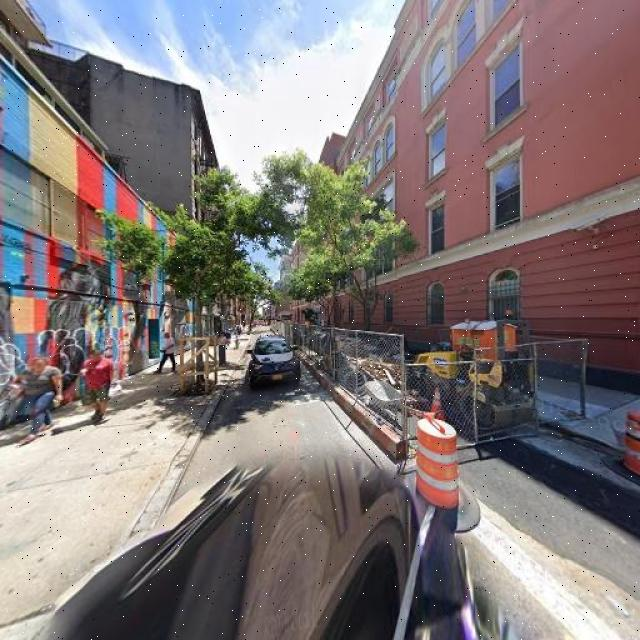Building: (335, 1, 640, 398), (1, 55, 180, 432)
